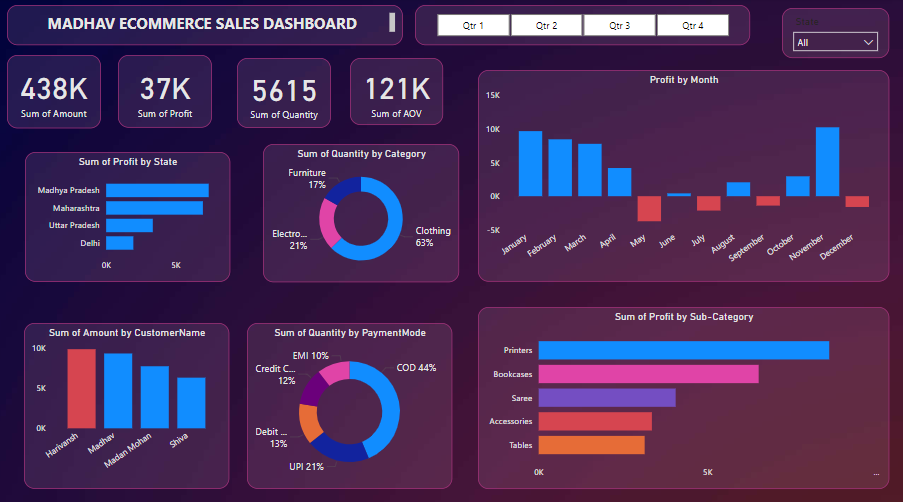

Layout of this report page (visuals, bound fields, positions):
{"tool":"powerbi","page":{"name":"Page 1","canvas":[1280,720],"ordinal":0},"visuals":[{"type":"textbox","box":[9.9,9.9,561.3,56.7],"z":0},{"type":"columnChart","title":"Profit by Month","fields":{"Category":["Orders.Order Date.Variation.Date Hierarchy.Month"],"Y":["Details.Profit"]},"box":[677.5,102,582.5,300.5],"z":1000},{"type":"barChart","fields":{"Category":["Details.Sub-Category"],"Y":["Details.Profit"]},"box":[677.5,438,582.5,258],"z":2000},{"type":"donutChart","fields":{"Category":["Details.Category"],"Y":["Details.Quantity"]},"box":[372.8,206.9,277.8,195.6],"z":3000},{"type":"donutChart","fields":{"Category":["Details.PaymentMode","Details.Category"],"Y":["Details.Quantity"]},"box":[350.1,460.6,290.6,235.3],"z":4000},{"type":"card","fields":{"Values":["Details.Amount"]},"box":[10.1,80.6,132.7,104.1],"z":5000},{"type":"card","fields":{"Values":["Details.Quantity"]},"box":[335.9,85,133.2,99.2],"z":6000},{"type":"card","fields":{"Values":["Details.Profit"]},"box":[167.2,80.8,133.2,103.5],"z":7000},{"type":"card","fields":{"Values":["Details.AOV"]},"box":[496.1,85,131.8,95],"z":8000},{"type":"barChart","fields":{"Category":["Orders.State"],"Y":["Details.Profit"]},"box":[35.4,218.3,290.6,184.3],"z":9000},{"type":"columnChart","fields":{"Category":["Orders.CustomerName"],"Y":["Details.Amount"]},"box":[34,460.6,290.6,235.3],"z":10000},{"type":"slicer","fields":{"Values":["Orders.Order Date.Variation.Date Hierarchy.Quarter"]},"box":[588.2,9.9,474.8,56.7],"z":11000},{"type":"slicer","fields":{"Values":["Orders.State"]},"box":[1108.3,14.2,151.7,70.9],"z":11001}]}

Visuals, with their boxes in screenshot pixels (x1, y1, x2, y2), scaled from the page's 1280x720 canvas onto the 903x502 screenshot:
textbox: 7,7,403,46
"Profit by Month" columnChart: 478,71,889,281
barChart - Details.Sub-Category x Details.Profit: 478,305,889,485
donutChart - Details.Category x Details.Quantity: 263,144,459,281
donutChart - Details.PaymentMode x Details.Category: 247,321,452,485
card - Details.Amount: 7,56,101,129
card - Details.Quantity: 237,59,331,128
card - Details.Profit: 118,56,212,128
card - Details.AOV: 350,59,443,126
barChart - Orders.State x Details.Profit: 25,152,230,281
columnChart - Orders.CustomerName x Details.Amount: 24,321,229,485
slicer - Orders.Order Date.Variation.Date Hierarchy.Quarter: 415,7,750,46
slicer - Orders.State: 782,10,889,59
